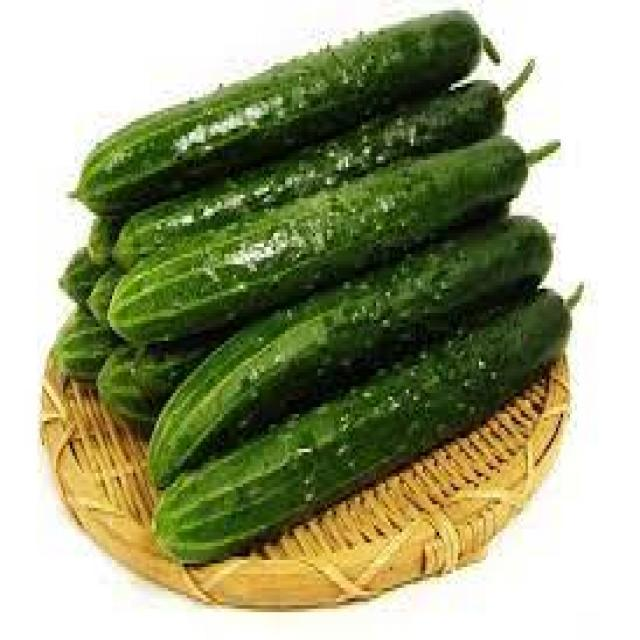cucumber: (154, 292, 572, 565), (149, 219, 554, 489), (107, 136, 530, 343)
